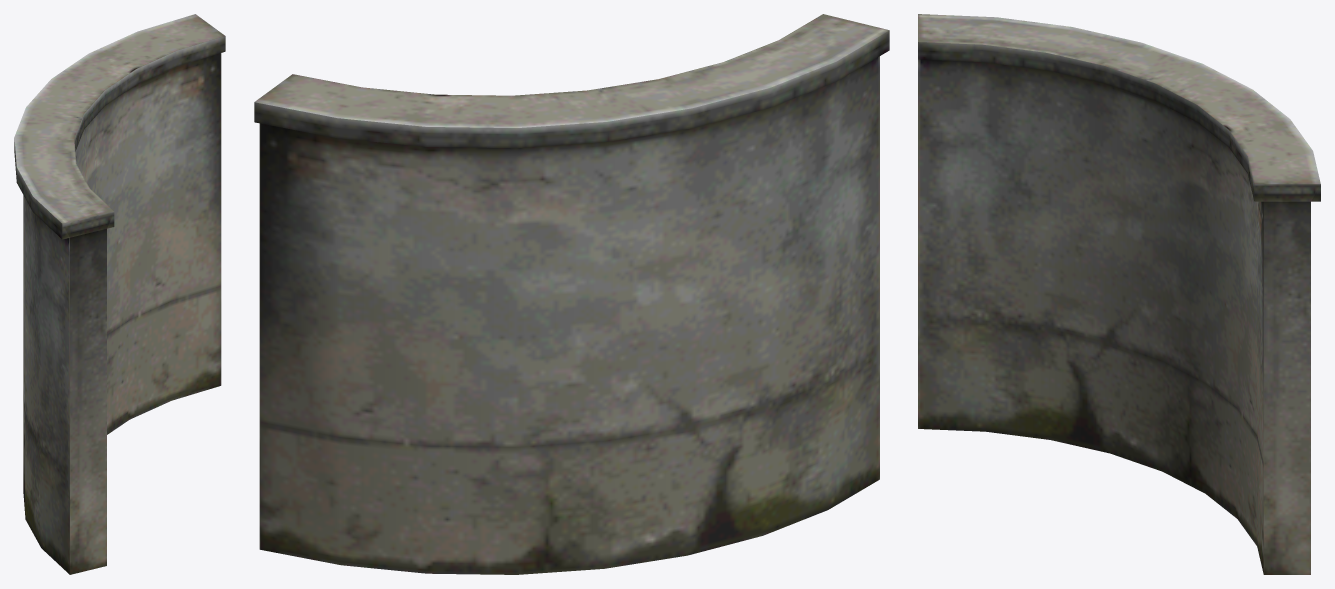
Rendered from Wall_corner3.fbx.
3 views of the same model, side by side, from view 1: azimuth 30°, elevation 25°; view 2: azimuth 150°, elevation 25°; view 3: azimuth 270°, elevation 25° (orthographic). The views are drawn at different scales.
Parts seen in each view (by area): view 1: Wall_corner3; view 2: Wall_corner3; view 3: Wall_corner3.
Part boxes in pixels (x1,y1,x2,y2): Wall_corner3: [14, 14, 225, 574]; Wall_corner3: [254, 14, 889, 574]; Wall_corner3: [918, 14, 1320, 574].
Bounding box in the file's own units: 280 × 299 × 280.
